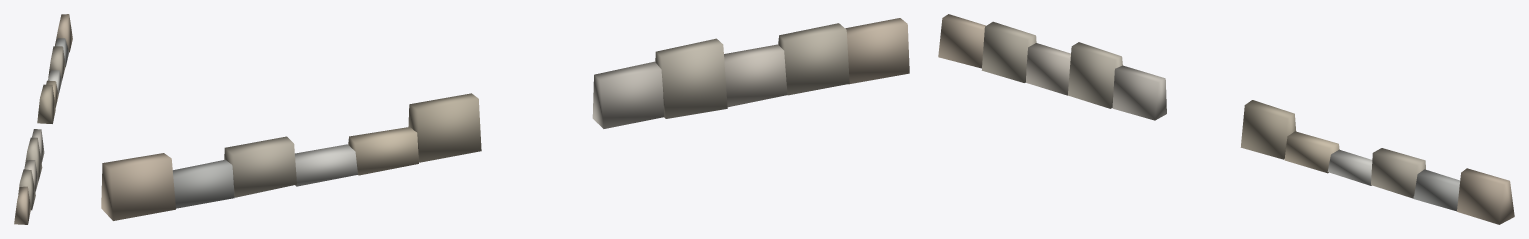
Rendered from farm_-24_-28_far.glb.
3 views of the same model, side by side, from view 1: azimuth 30°, elevation 25°; view 2: azimuth 150°, elevation 25°; view 3: azimuth 270°, elevation 25° (orthographic). The views are drawn at different scales.
Visible parts, largest first — view 1: geometry_0; view 2: geometry_0; view 3: geometry_0.
Part boxes in pixels (bbox=[...]): geometry_0: bbox=[14, 14, 72, 224]; geometry_0: bbox=[101, 18, 909, 220]; geometry_0: bbox=[938, 14, 1514, 224].
Size of the model in its own units: 12.29 by 1.56 by 16.71.
